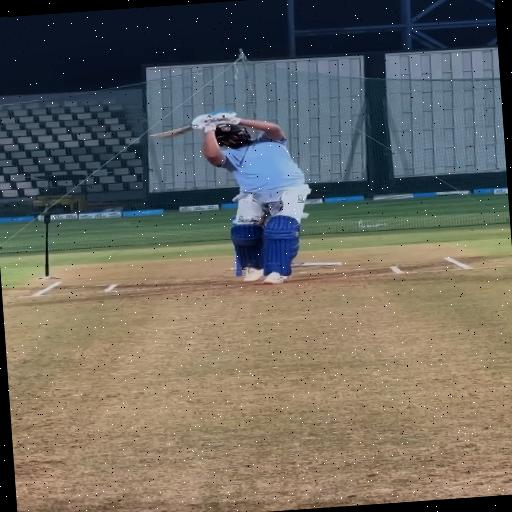Cricket bat: (149, 126, 192, 139)
